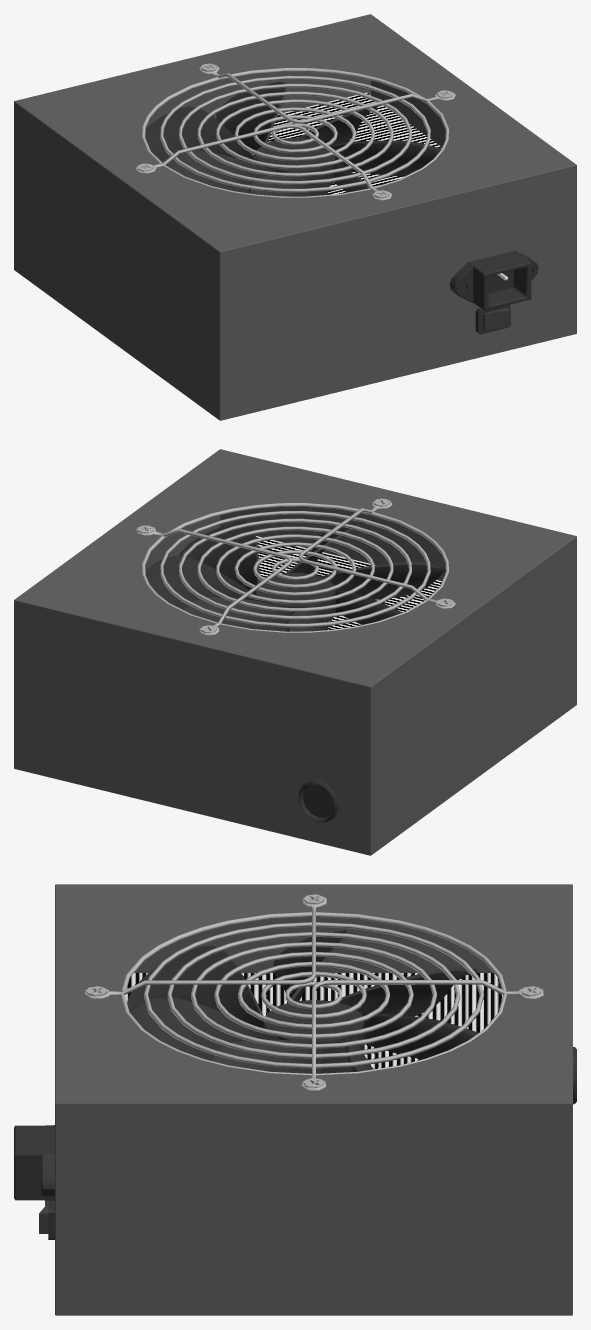
Rendered from psu.fbx.
3 views of the same model, one above another, from view 1: azimuth 30°, elevation 25°; view 2: azimuth 150°, elevation 25°; view 3: azimuth 270°, elevation 25° (orthographic). The views are drawn at different scales.
Parts seen in each view (by area): view 1: Cube.014, Circle.003, Cube.012, Cube.010, Cube; view 2: Cube.014, Circle.003, Cube.012, Cube, Cube.010; view 3: Cube.014, Circle.003, Cube.012, Cube, Cube.010.
Part boxes in pixels (x1,y1,x2,y2): Cube.014: (14,14,576,420); Circle.003: (135,63,455,200); Cube.012: (145,81,441,196); Cube.010: (449,250,538,334); Cube: (252,92,441,194); Cube.014: (14,449,576,855); Circle.003: (135,498,455,635); Cube.012: (145,521,445,631); Cube: (256,535,441,629); Cube.010: (299,780,337,822); Cube.014: (55,884,572,1315); Circle.003: (84,894,543,1090); Cube.012: (127,930,478,1073); Cube: (125,973,502,1069); Cube.010: (14,1047,576,1239).
Bounding box in the file's own units: 15 × 7.21 × 16.3.
